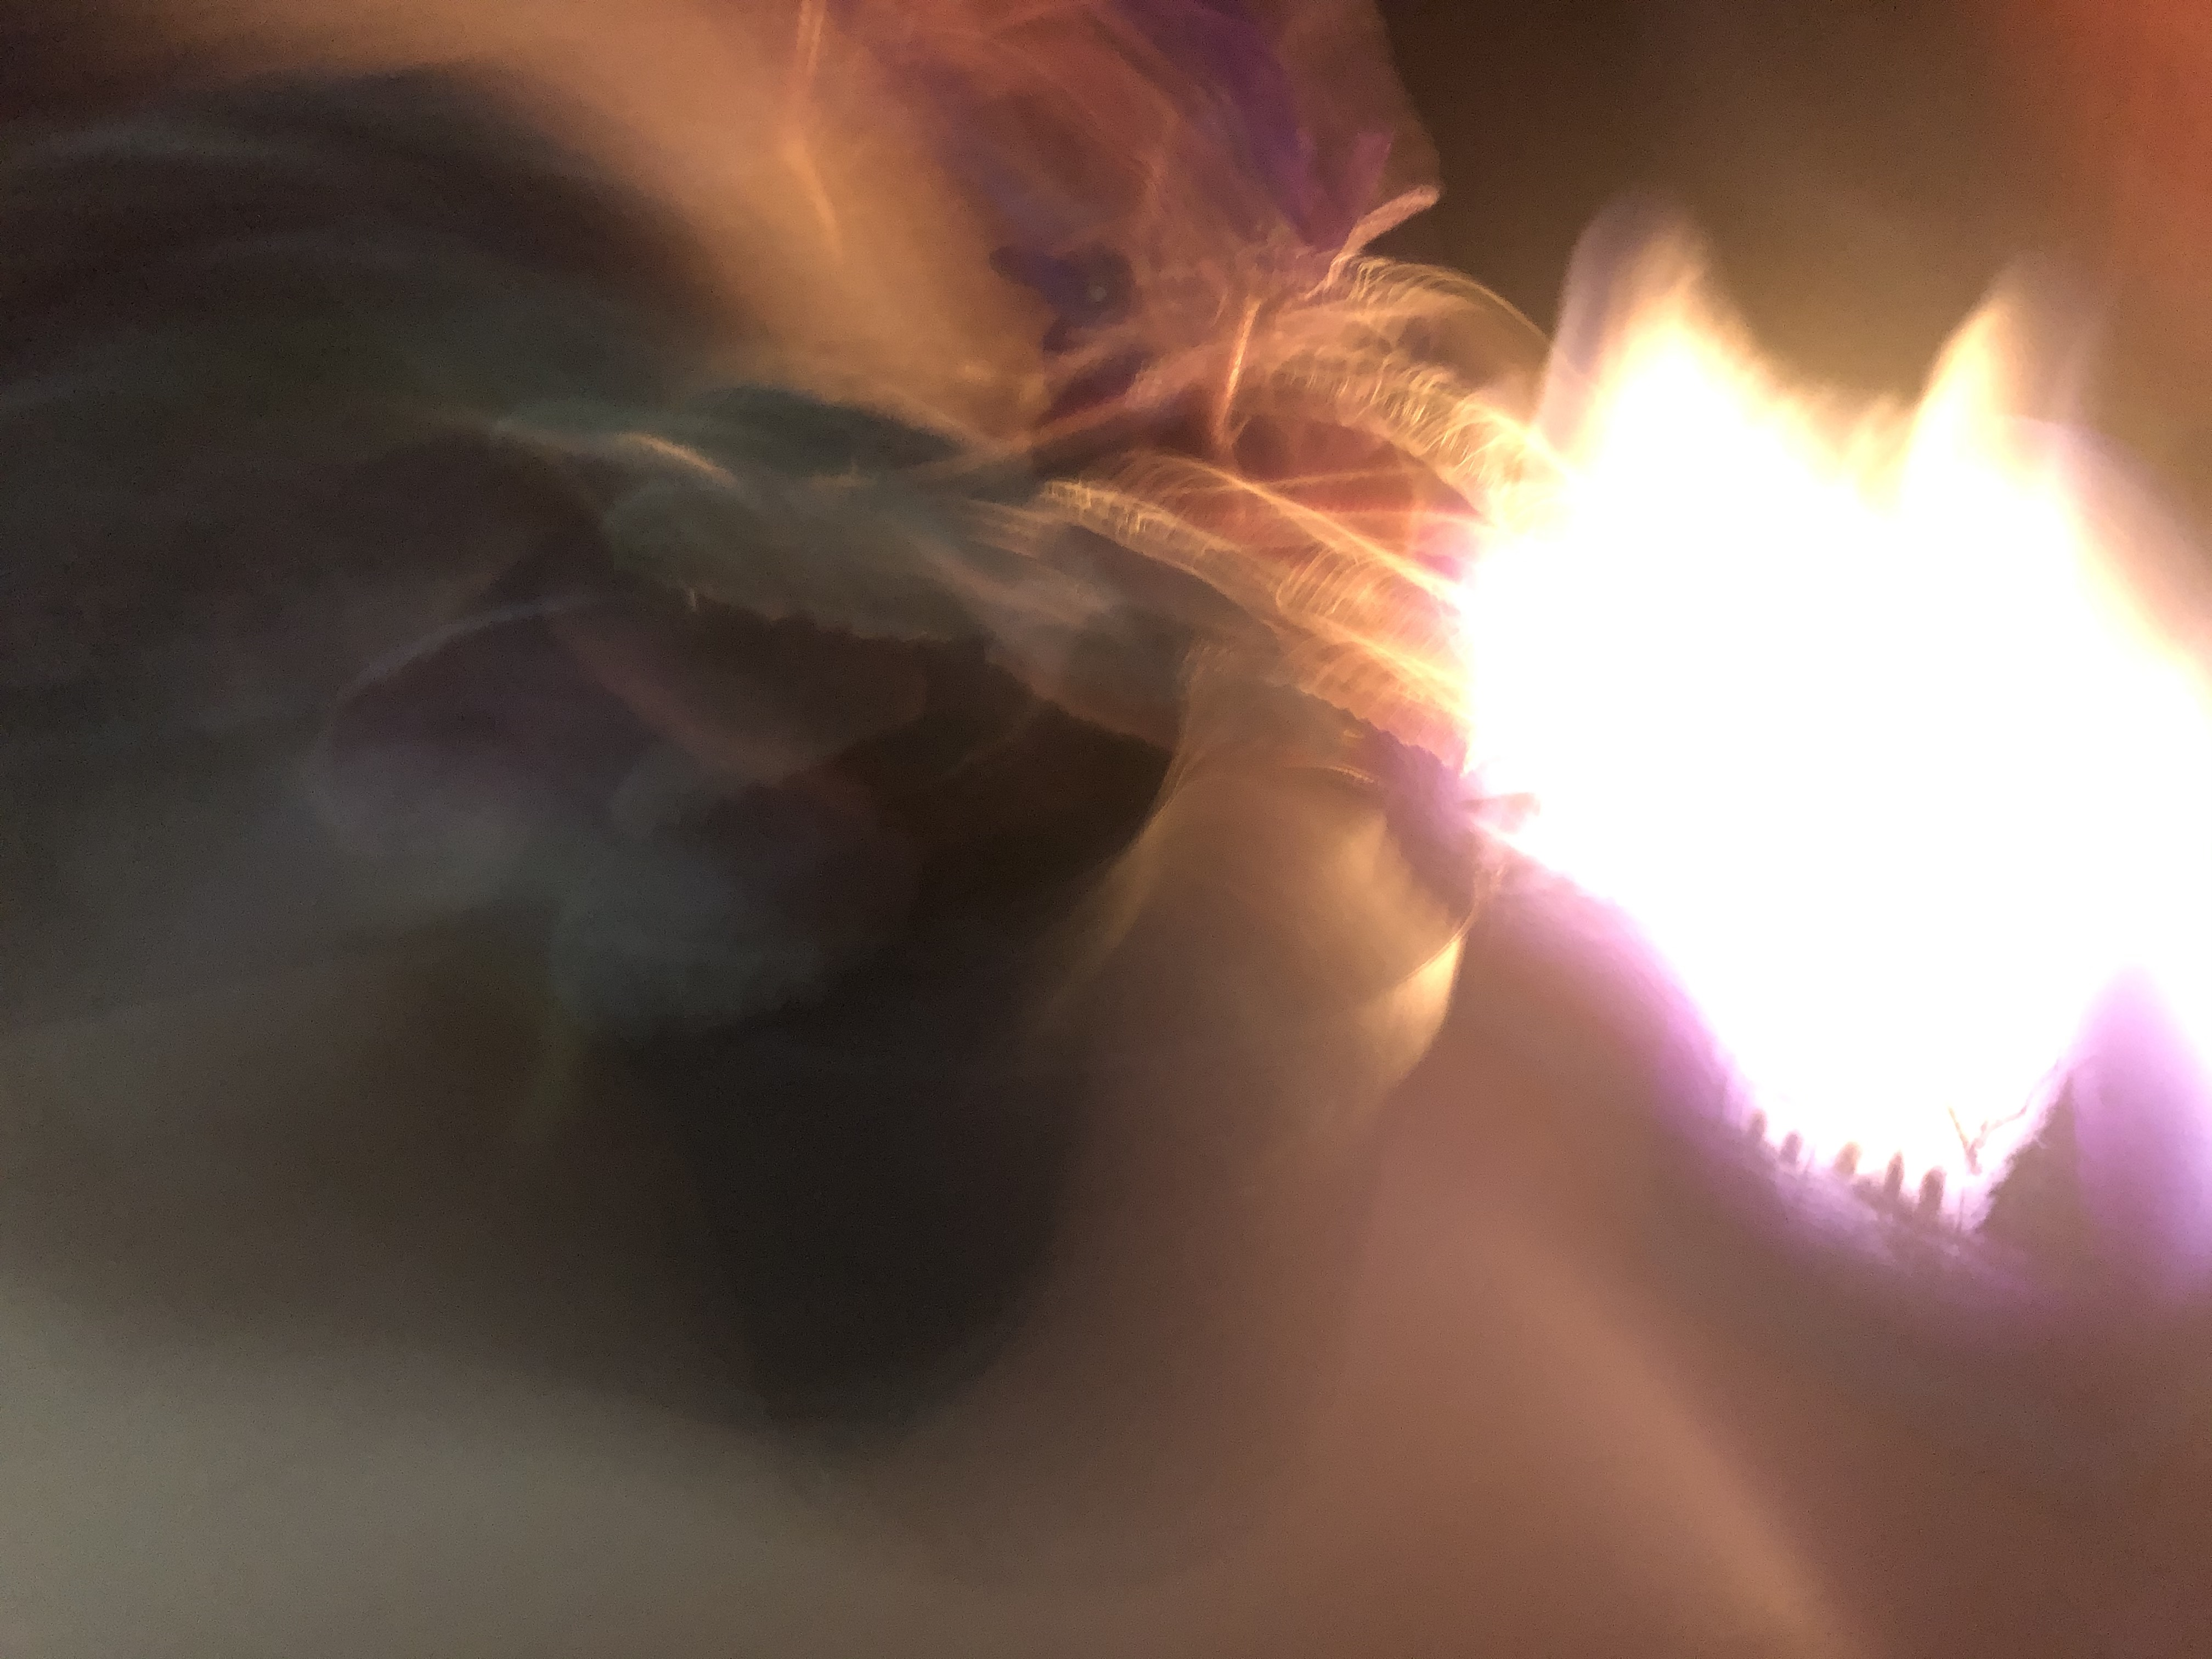ignore: (45, 45, 1261, 894)
